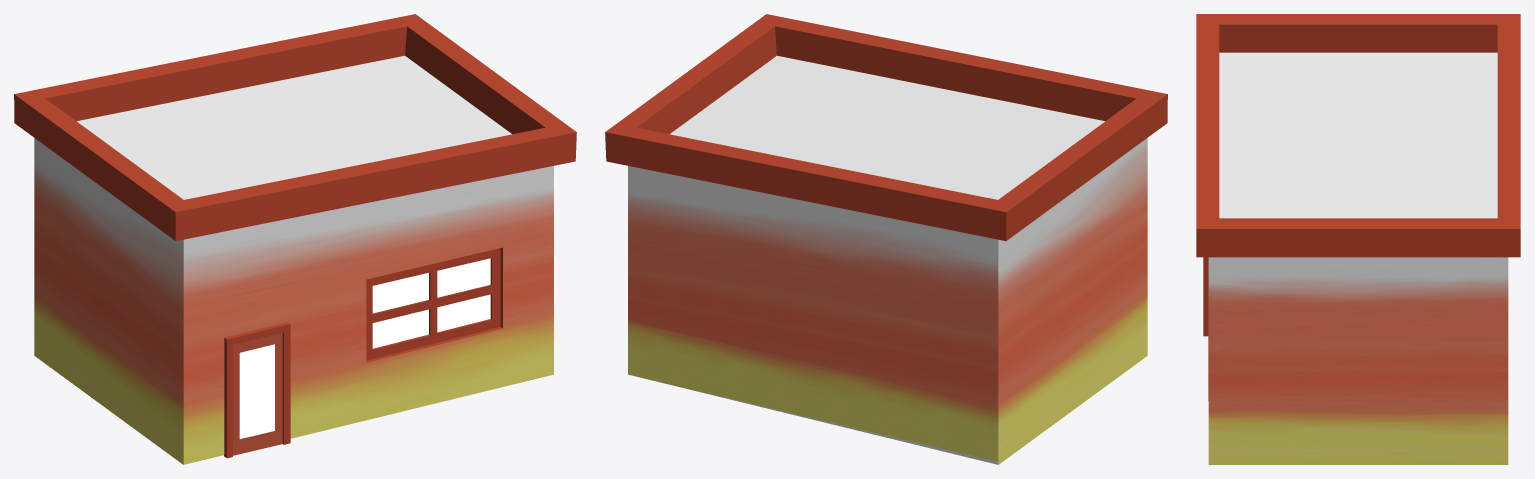
File: Cornelias apartment.fbx
3 views of the same model, side by side, from view 1: azimuth 30°, elevation 25°; view 2: azimuth 150°, elevation 25°; view 3: azimuth 270°, elevation 25° (orthographic).
Parts seen in each view (by area): view 1: Cornelias house; view 2: Cornelias house; view 3: Cornelias house.
Part boxes in pixels (x1,y1,x2,y2): Cornelias house: (14, 14, 576, 464); Cornelias house: (605, 14, 1167, 464); Cornelias house: (1196, 14, 1520, 464).
Bounding box in the file's own units: 1457 × 911 × 1015.
5 materials, 1 textured.
